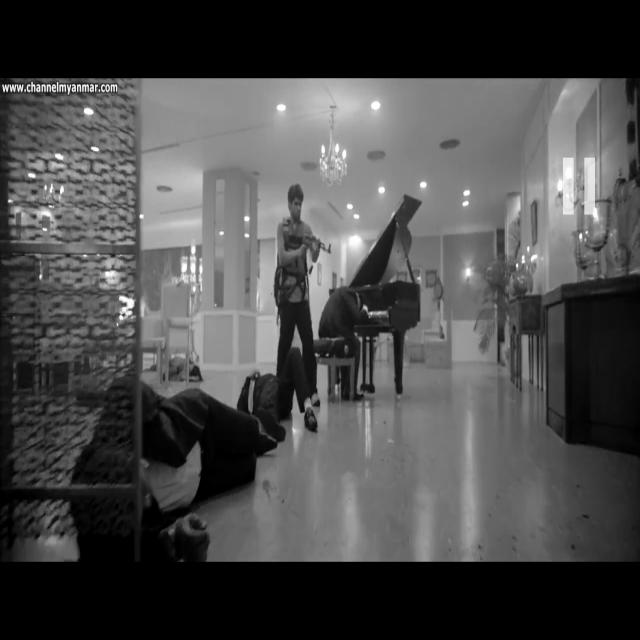gun: (288, 232, 331, 274)
